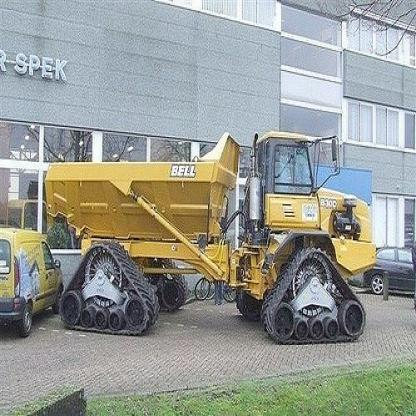dump_truck: (39, 114, 382, 364)
